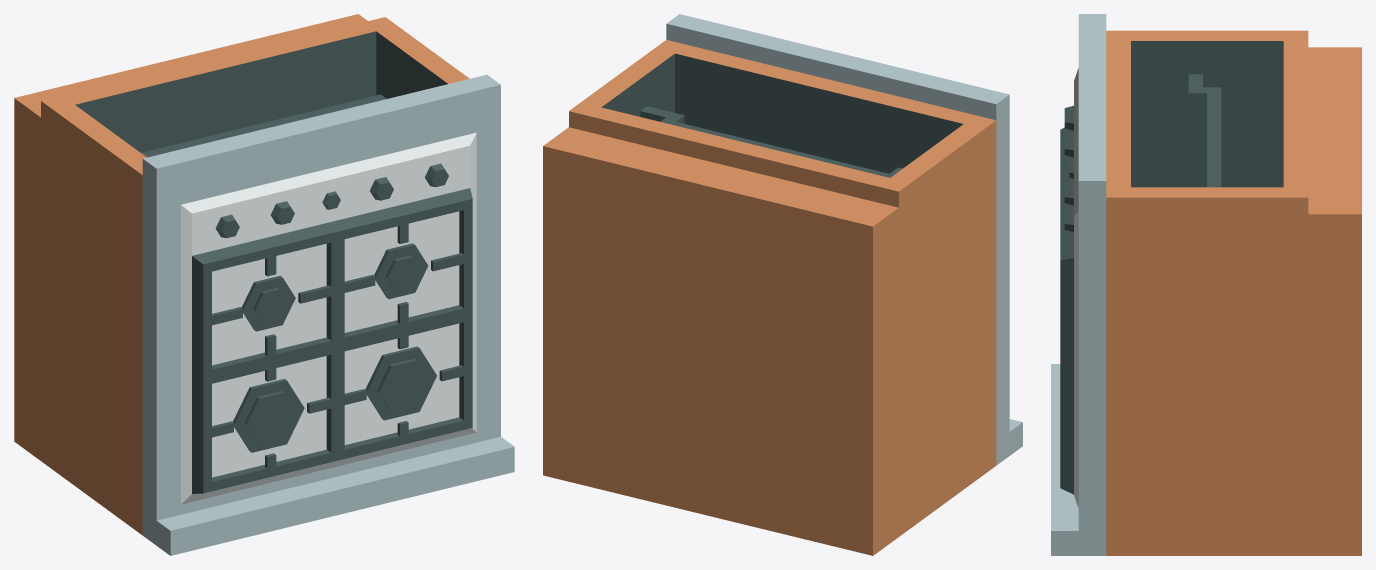
The model's file is gas_stove_visual.obj.
3 views of the same model, side by side, from view 1: azimuth 30°, elevation 25°; view 2: azimuth 150°, elevation 25°; view 3: azimuth 270°, elevation 25° (orthographic). The views are drawn at different scales.
Parts seen in each view (by area): view 1: kitchenStove.001_ID11.001; view 2: kitchenStove.001_ID11.001; view 3: kitchenStove.001_ID11.001.
Part boxes in pixels (bbox=[...]): kitchenStove.001_ID11.001: bbox=[14, 14, 514, 555]; kitchenStove.001_ID11.001: bbox=[543, 14, 1022, 555]; kitchenStove.001_ID11.001: bbox=[1051, 14, 1361, 555].
Size of the model in its own units: 1.05 by 1.1 by 0.828.
